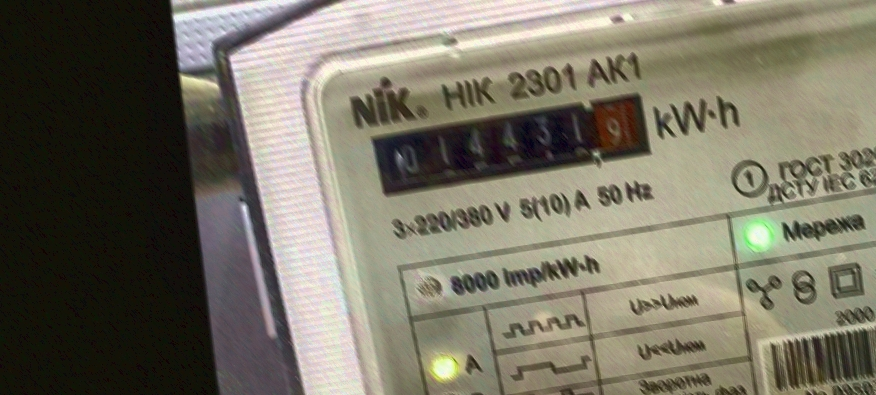0: (399, 140, 423, 175)
1: (434, 131, 456, 166), (569, 110, 586, 143)
3: (533, 114, 555, 148)
4: (464, 124, 489, 159), (499, 117, 521, 153)
9: (604, 113, 625, 146)
screen: (363, 84, 666, 205)
